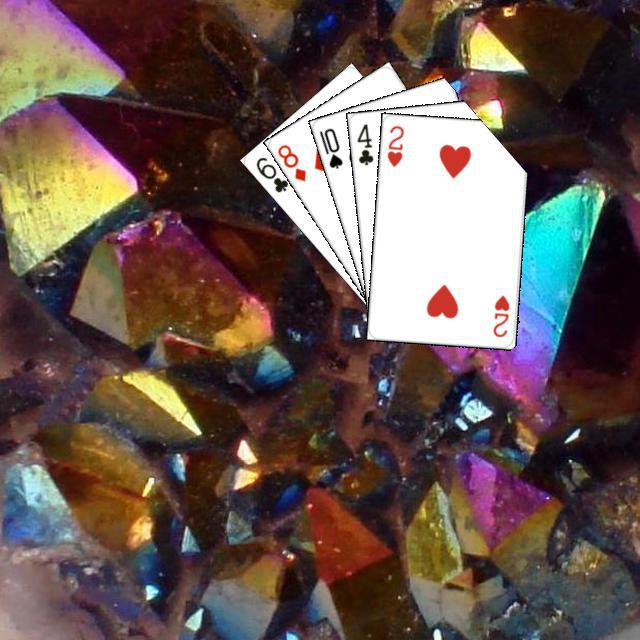10s: (314, 123, 344, 170)
2h: (382, 120, 406, 168), (488, 290, 511, 339)
4c: (352, 119, 375, 167)
6c: (251, 152, 290, 194)
8d: (272, 139, 308, 183)
